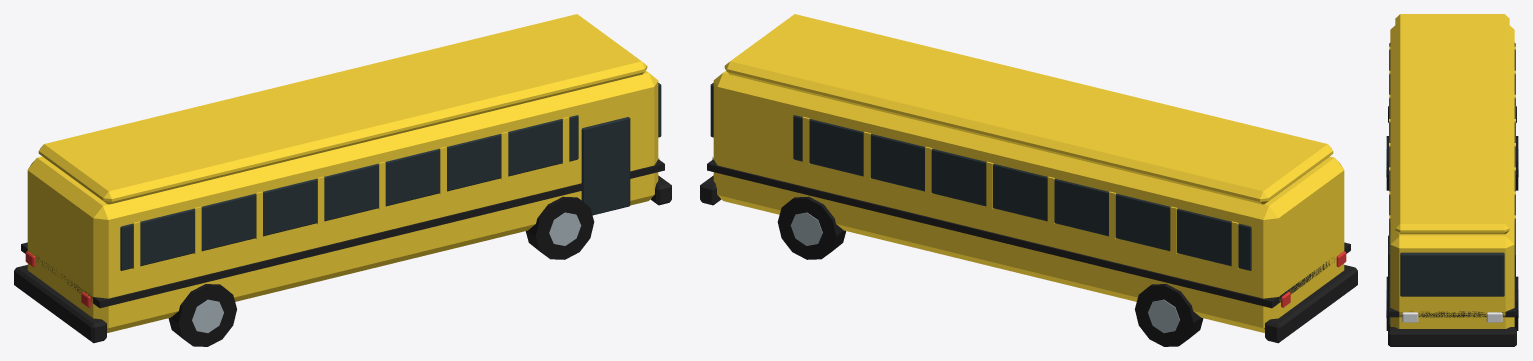
The model's file is bus.glb.
3 views of the same model, side by side, from view 1: azimuth 30°, elevation 25°; view 2: azimuth 150°, elevation 25°; view 3: azimuth 270°, elevation 25° (orthographic). The views are drawn at different scales.
Parts seen in each view (by area): view 1: bus; view 2: bus; view 3: bus.
Boxes of the visible parts, box(x1,y1,x2,y2) form: bus: box(14, 14, 671, 346); bus: box(700, 14, 1357, 346); bus: box(1386, 14, 1518, 346).
Size of the model in its own units: 10.9 by 3.08 by 2.67.
